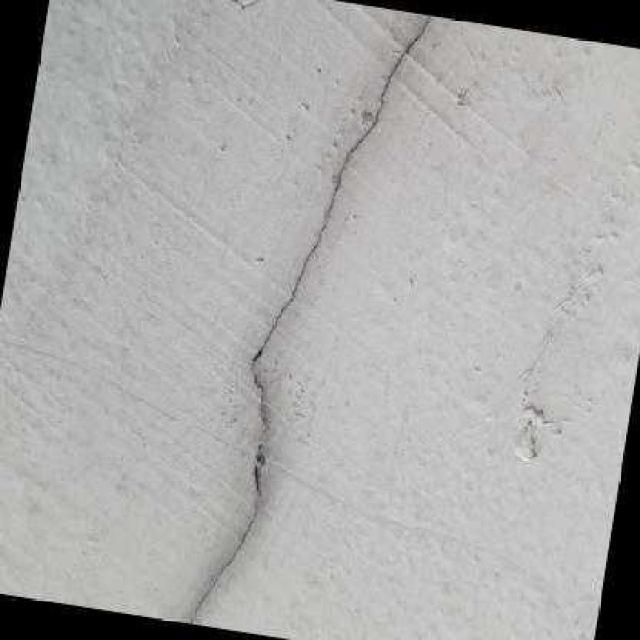D00: (187, 13, 429, 623)
